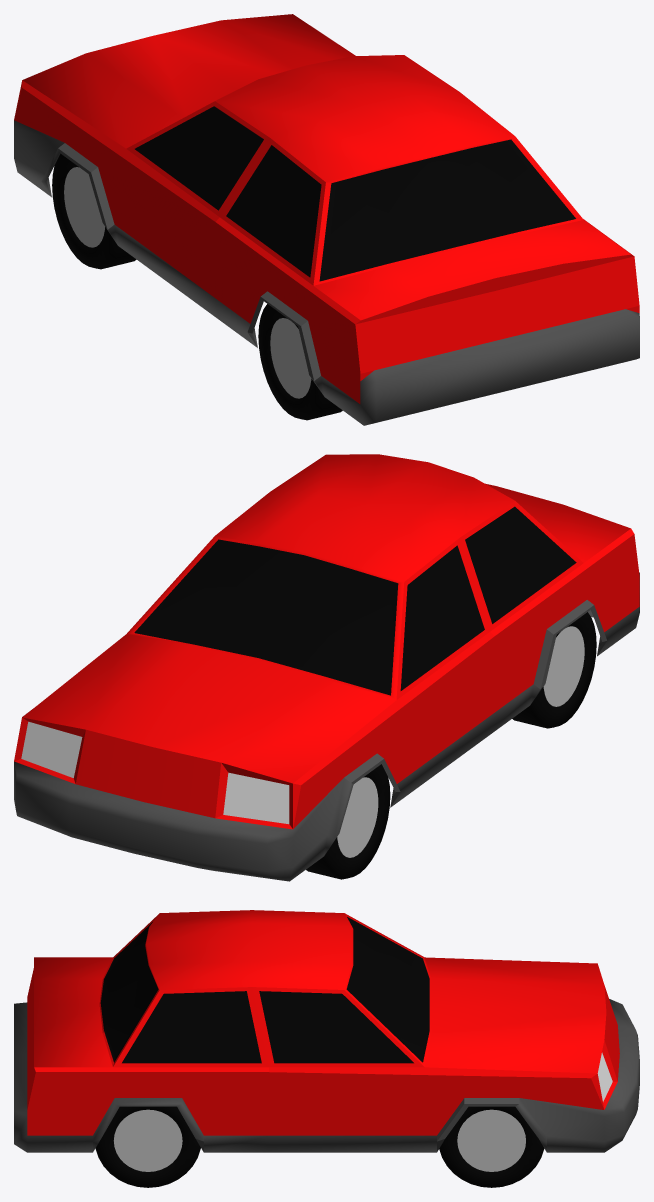
The model's file is car1.glb.
The picture shows the model from 3 angles, top to bottom: view 1: azimuth 30°, elevation 25°; view 2: azimuth 150°, elevation 25°; view 3: azimuth 270°, elevation 25°; orthographic projection. The views are drawn at different scales.
Parts seen in each view (by area): view 1: Car; view 2: Car; view 3: Car.
Boxes of the visible parts, box(x1,y1,x2,y2) form: Car: box(14, 14, 639, 425); Car: box(14, 454, 639, 881); Car: box(14, 910, 639, 1187).
Bounding box in the file's own units: 2.1 × 1.59 × 4.67.
